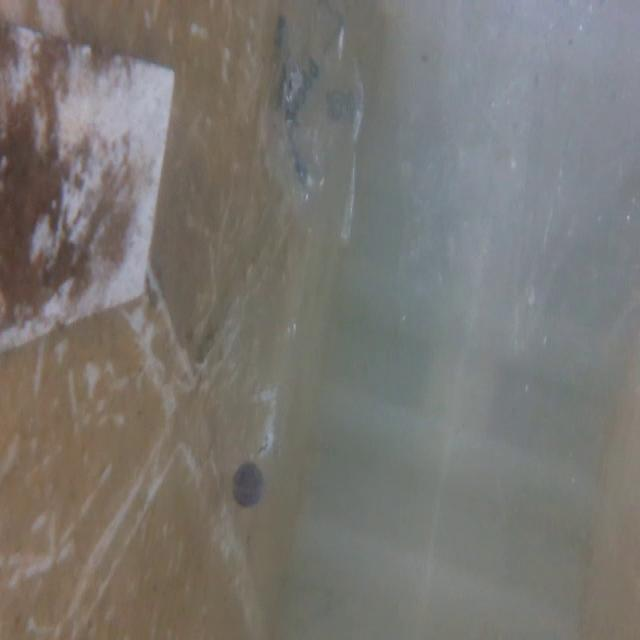metal: (0, 27, 174, 338)
plastic bags: (400, 0, 640, 381), (255, 0, 373, 241)
plastic bottle: (208, 256, 304, 545)
